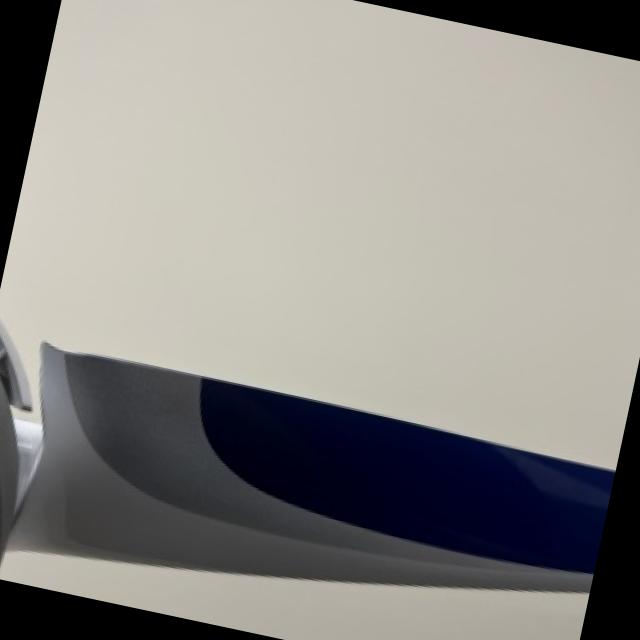healthy: (4, 345, 593, 640)
